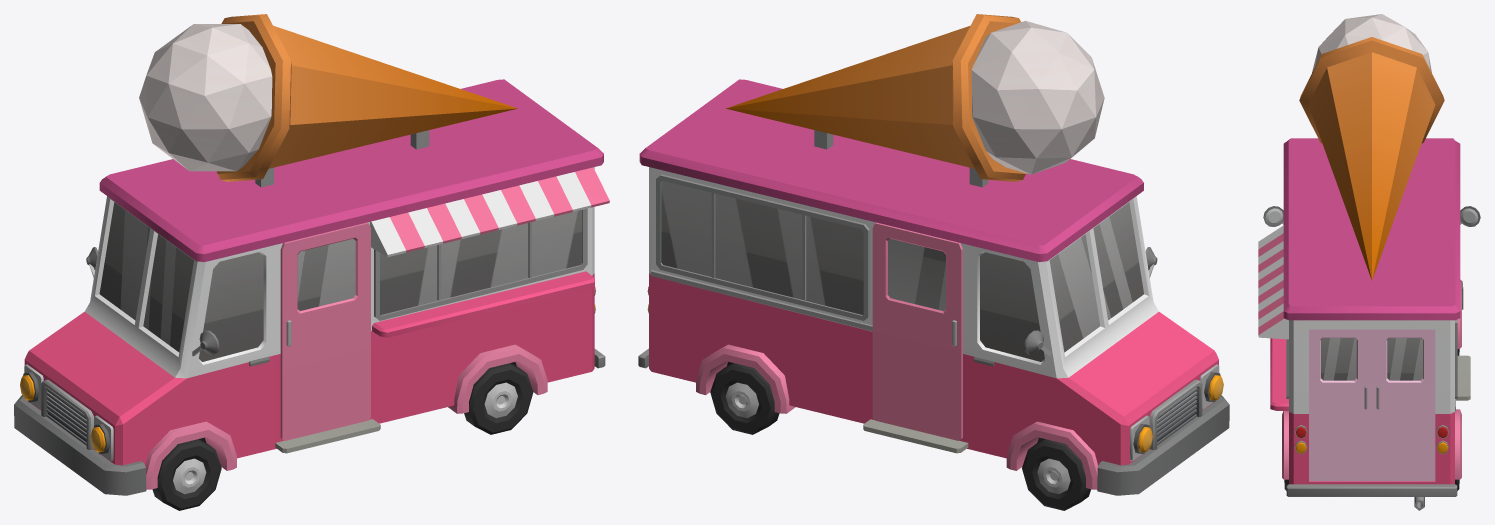
File: IceTruck_1_I.gltf
3 renders of one model, left to right at view 1: azimuth 30°, elevation 25°; view 2: azimuth 150°, elevation 25°; view 3: azimuth 270°, elevation 25°, orthographic. The views are drawn at different scales.
Visible parts, largest first — view 1: IceTruck_1_I, RL, FL; view 2: IceTruck_1_I, RR, FR; view 3: IceTruck_1_I.
Boxes of the visible parts, x1=… form: IceTruck_1_I: x1=14, y1=14, x2=609, y2=495; RL: x1=464, y1=363, x2=533, y2=434; FL: x1=152, y1=439, x2=221, y2=510; IceTruck_1_I: x1=638, y1=14, x2=1229, y2=495; RR: x1=710, y1=363, x2=779, y2=434; FR: x1=1022, y1=439, x2=1090, y2=510; IceTruck_1_I: x1=1258, y1=14, x2=1480, y2=510.
Size of the model in its own units: 4.16 by 3.38 by 1.84.
Materials: 4 (4 with a texture image).
